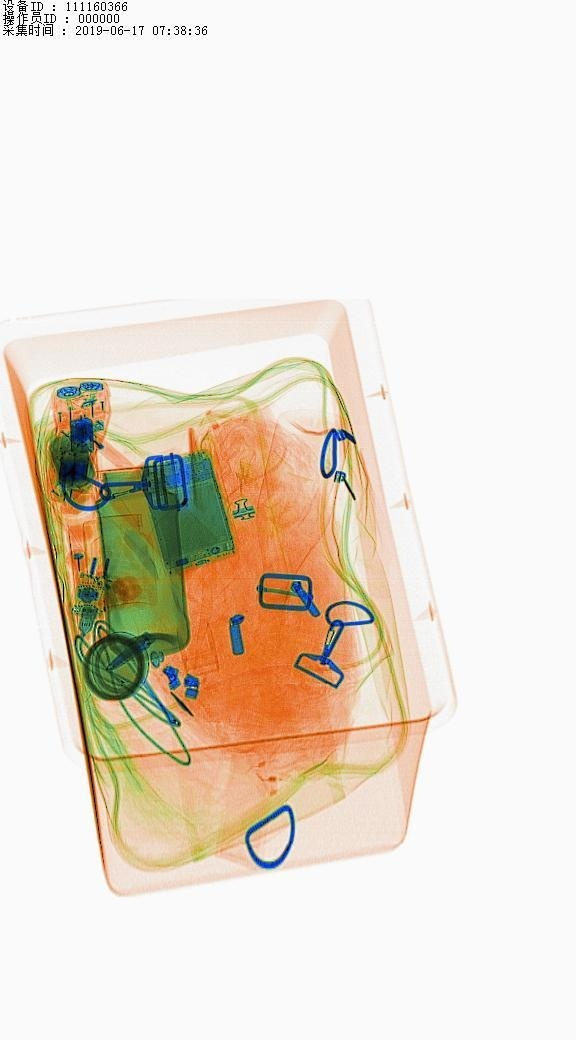NonmetallicFire: (71, 410, 149, 482)
